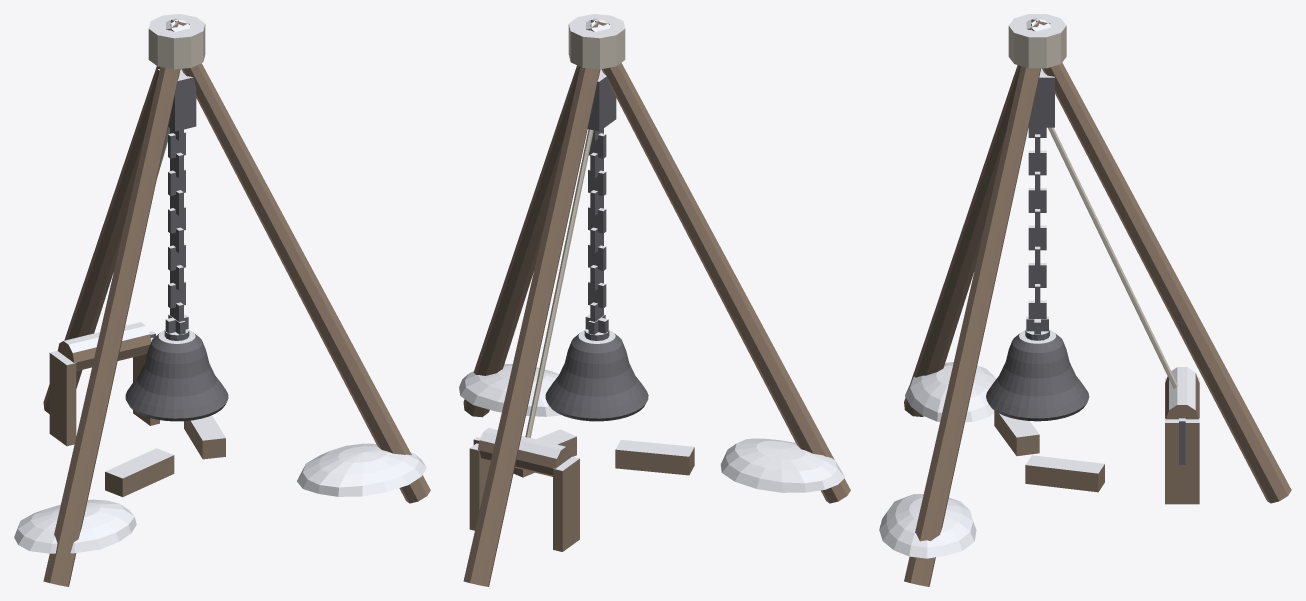
The model's file is PR_Cabrilha.fbx.
3 renders of one model, left to right at view 1: azimuth 30°, elevation 25°; view 2: azimuth 150°, elevation 25°; view 3: azimuth 270°, elevation 25°, orthographic.
Visible parts, largest first — view 1: PR_Cabrilha; view 2: PR_Cabrilha; view 3: PR_Cabrilha.
Part boxes in pixels (box(x1,y1,x2,y2)): PR_Cabrilha: box(14, 14, 430, 586); PR_Cabrilha: box(459, 14, 850, 586); PR_Cabrilha: box(879, 14, 1291, 586).
Bounding box in the file's own units: 6.57 × 7.7 × 5.99.
